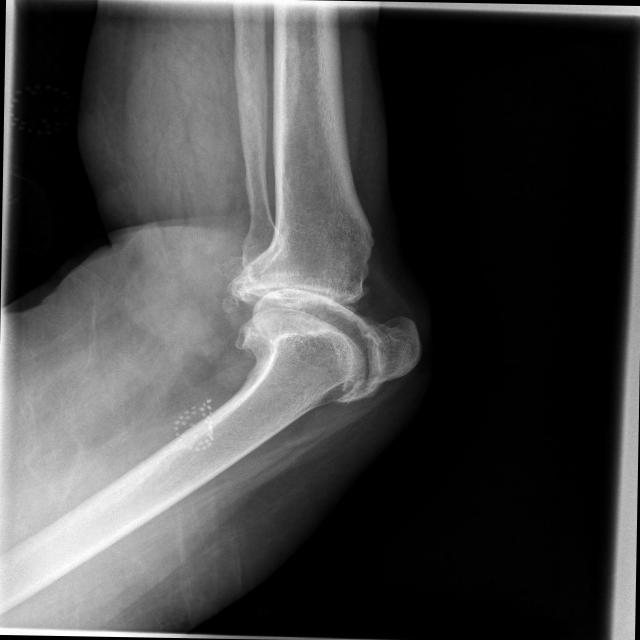Knee: (205, 234, 422, 407)
